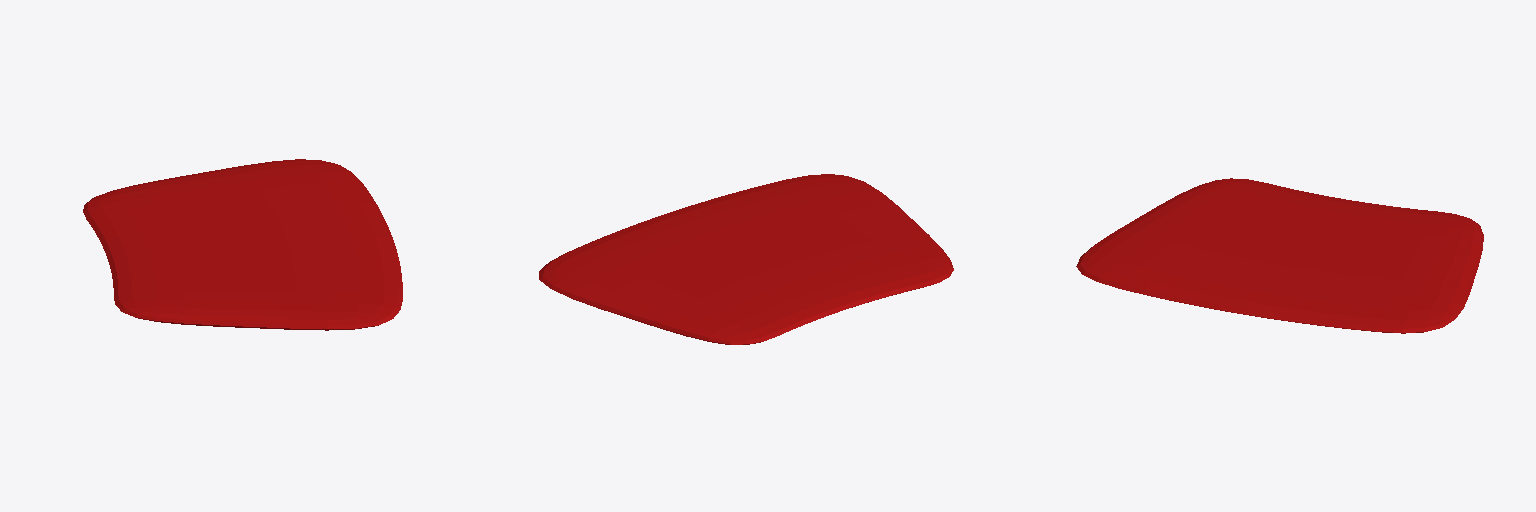
Rendered from terrain_panel_mid_e.obj.
3 views of the same model, side by side, from view 1: azimuth 30°, elevation 25°; view 2: azimuth 150°, elevation 25°; view 3: azimuth 270°, elevation 25° (orthographic).
Parts seen in each view (by area): view 1: terrain_panel_mid_e; view 2: terrain_panel_mid_e; view 3: terrain_panel_mid_e.
Part boxes in pixels (x1,y1,x2,y2): terrain_panel_mid_e: (83, 159, 402, 330); terrain_panel_mid_e: (539, 174, 953, 344); terrain_panel_mid_e: (1076, 178, 1483, 333).
Size of the model in its own units: 60.89 by 2.5 by 68.03.